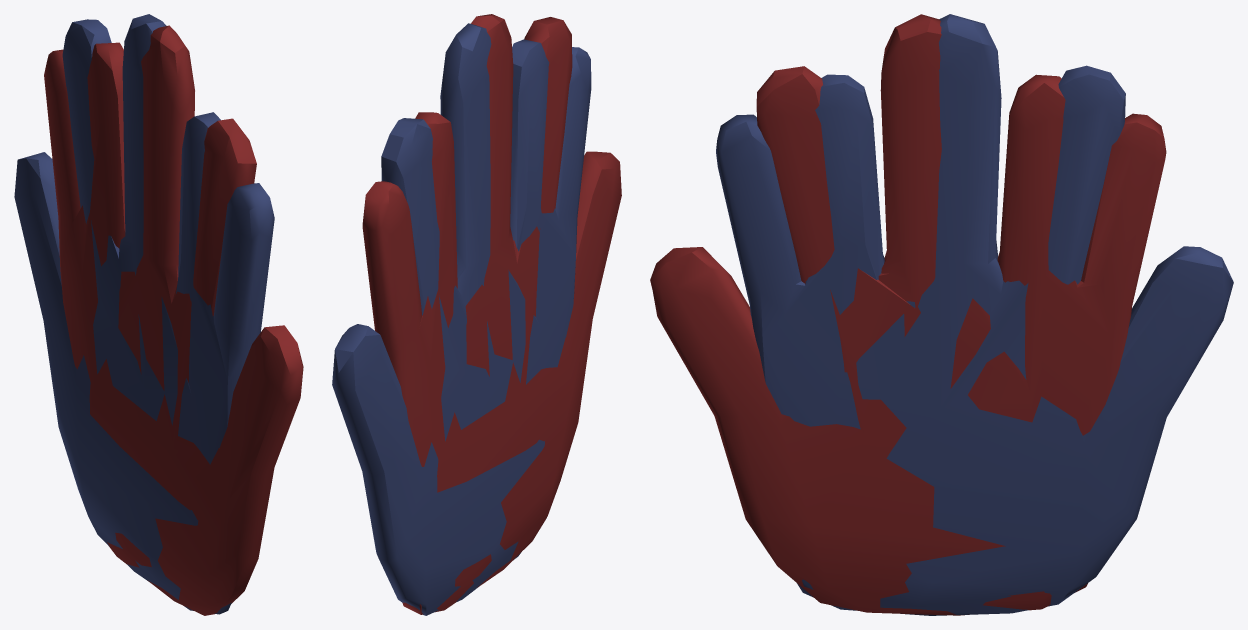
File: Hands.fbx
3 views of the same model, side by side, from view 1: azimuth 30°, elevation 25°; view 2: azimuth 150°, elevation 25°; view 3: azimuth 270°, elevation 25° (orthographic). The views are drawn at different scales.
Visible parts, largest first — view 1: LeftHand, RightHand; view 2: RightHand, LeftHand; view 3: RightHand, LeftHand.
Part boxes in pixels (<box>): LeftHand: <box>44,25,303,615</box>; RightHand: <box>14,14,274,614</box>; RightHand: <box>332,23,591,615</box>; LeftHand: <box>362,14,621,614</box>; RightHand: <box>716,14,1233,615</box>; LeftHand: <box>650,14,1166,615</box>.
Size of the model in its own units: 0.1246 by 2.16 by 1.91.
